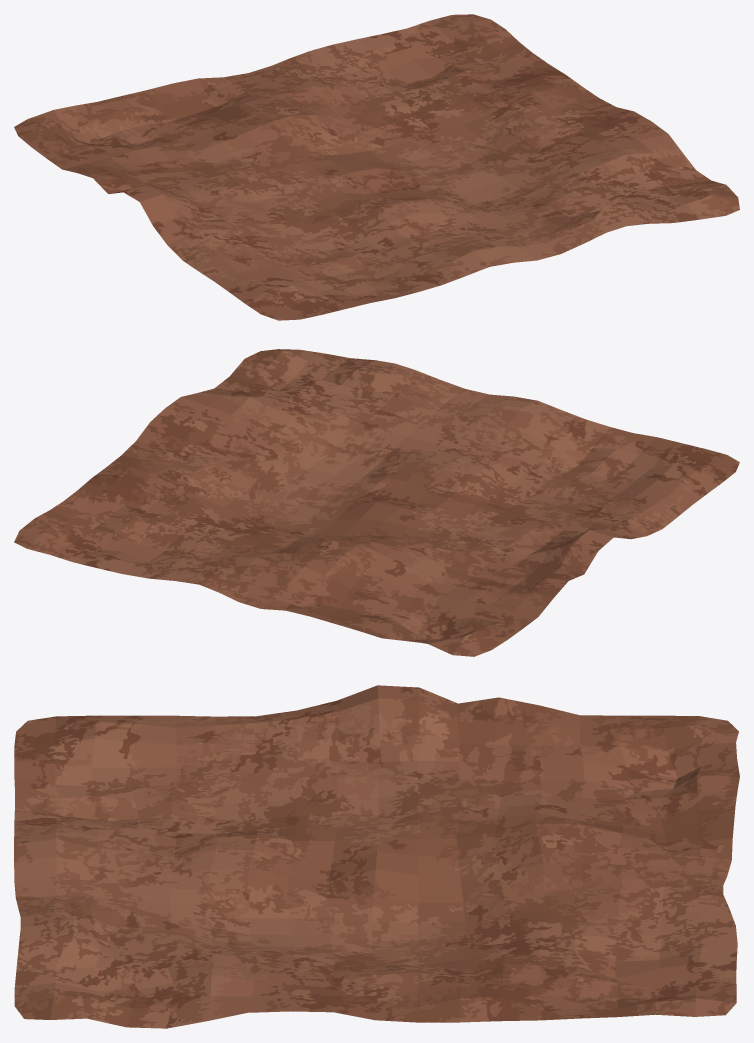
File: ground.fbx
3 renders of one model, top to bottom at view 1: azimuth 30°, elevation 25°; view 2: azimuth 150°, elevation 25°; view 3: azimuth 270°, elevation 25°, orthographic. The views are drawn at different scales.
Visible parts, largest first — view 1: Plane; view 2: Plane; view 3: Plane.
Boxes of the visible parts, <box> form: Plane: <box>14,14,739,320</box>; Plane: <box>14,349,739,656</box>; Plane: <box>14,685,739,1028</box>.
Size of the model in its own units: 711 by 60.8 by 699.
